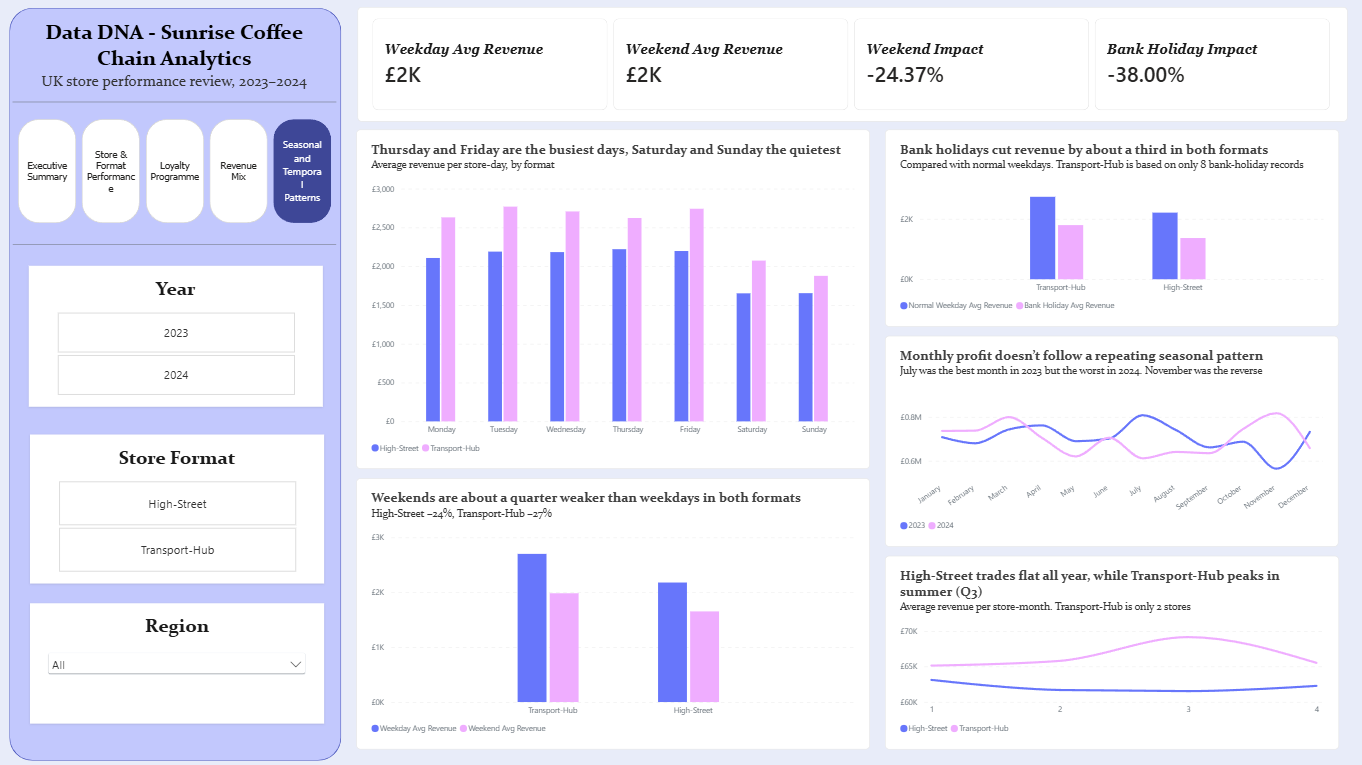

The page's visual inventory and layout, read from the dashboard file:
{"tool":"powerbi","page":{"name":"Seasonal and Temporal Patterns","canvas":[1920,1080],"ordinal":4},"visuals":[{"type":"shape","box":[0,0,503,1080.6],"z":0},{"type":"cardVisual","fields":{"Data":["_Measures.Weekday Avg Revenue","_Measures.Weekend Avg Revenue","_Measures.Weekend vs Weekday %","_Measures.Bank Holiday vs Normal Weekday %"]},"box":[505,13.3,1381.7,160],"z":1000},{"type":"clusteredColumnChart","title":"Thursday and Friday are the busiest days, Saturday and Sunday the quietest","fields":{"Category":["dim_date.day_of_week"],"Series":["dim_store.store_format"],"Y":["_Measures.Avg Revenue per Store-Day"]},"box":[503.3,185,716.7,473.3],"z":2000},{"type":"clusteredColumnChart","title":"Weekends are about a quarter weaker than weekdays in both formats","fields":{"Category":["dim_store.store_format"],"Y":["_Measures.Weekday Avg Revenue","_Measures.Weekend Avg Revenue"]},"box":[503.3,671.7,716.7,378.3],"z":3000},{"type":"clusteredColumnChart","title":"Bank holidays cut revenue by about a third in both formats","fields":{"Category":["dim_store.store_format"],"Y":["_Measures.Normal Weekday Avg Revenue","_Measures.Bank Holiday Avg Revenue"]},"box":[1241.7,185,633.3,275],"z":4000},{"type":"lineChart","title":"Monthly profit doesn’t follow a repeating seasonal pattern","fields":{"Category":["dim_date.month_name"],"Series":["dim_date.year"],"Y":["_Measures.Total Net Profit"]},"box":[1241.7,473.3,632.7,294.2],"z":5000},{"type":"lineChart","title":"High-Street trades flat all year, while Transport-Hub peaks in summer (Q3)","fields":{"Category":["dim_date.quarter"],"Series":["dim_store.store_format"],"Y":["_Measures.Avg Revenue per Store-Month"]},"box":[1241.7,780,633.3,270],"z":6000},{"type":"slicer","title":"Year","fields":{"Values":["dim_date.year"]},"box":[46.7,375,410,196.7],"z":7000},{"type":"slicer","title":"Store Format","fields":{"Values":["dim_store.store_format"]},"box":[48.3,610,410,208.3],"z":8000},{"type":"slicer","title":"Region","fields":{"Values":["dim_store.region"]},"box":[48.3,846.7,410,168.3],"z":9000},{"type":"textbox","title":"Data DNA - Sunrise Coffee Chain Analytics","box":[25,15,451.7,153.3],"z":10000},{"type":"textbox","box":[25,330,451.7,33.3],"z":11000},{"type":"pageNavigator","box":[11.7,155,480,175],"z":12000}]}

Visuals, with their boxes in screenshot pixels (x1, y1, x2, y2), scaled from the page's 1920x1080 canvas onto the 1362x765 screenshot:
shape: {"x1": 0, "y1": 0, "x2": 357, "y2": 764}
cardVisual - _Measures.Weekday Avg Revenue x _Measures.Weekend Avg Revenue: {"x1": 358, "y1": 9, "x2": 1338, "y2": 123}
"Thursday and Friday are the busiest days, Saturday and Sunday the quietest" clusteredColumnChart: {"x1": 357, "y1": 131, "x2": 865, "y2": 466}
"Weekends are about a quarter weaker than weekdays in both formats" clusteredColumnChart: {"x1": 357, "y1": 476, "x2": 865, "y2": 744}
"Bank holidays cut revenue by about a third in both formats" clusteredColumnChart: {"x1": 881, "y1": 131, "x2": 1330, "y2": 326}
"Monthly profit doesn’t follow a repeating seasonal pattern" lineChart: {"x1": 881, "y1": 335, "x2": 1330, "y2": 544}
"High-Street trades flat all year, while Transport-Hub peaks in summer (Q3)" lineChart: {"x1": 881, "y1": 552, "x2": 1330, "y2": 744}
"Year" slicer: {"x1": 33, "y1": 266, "x2": 324, "y2": 405}
"Store Format" slicer: {"x1": 34, "y1": 432, "x2": 325, "y2": 580}
"Region" slicer: {"x1": 34, "y1": 600, "x2": 325, "y2": 719}
"Data DNA - Sunrise Coffee Chain Analytics" textbox: {"x1": 18, "y1": 11, "x2": 338, "y2": 119}
textbox: {"x1": 18, "y1": 234, "x2": 338, "y2": 257}
pageNavigator: {"x1": 8, "y1": 110, "x2": 349, "y2": 234}
